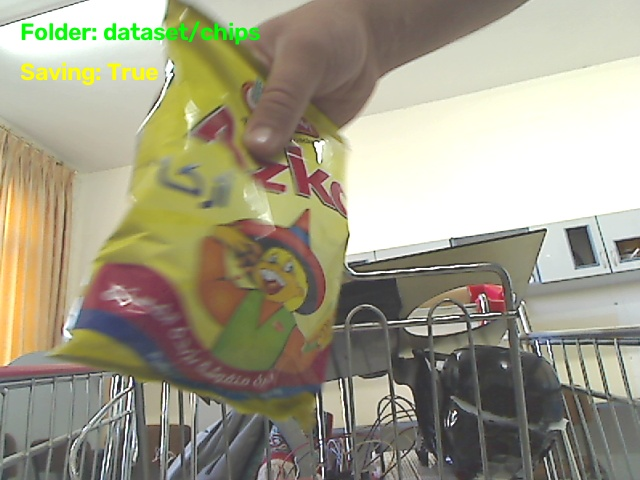chips: (54, 36, 347, 417)
